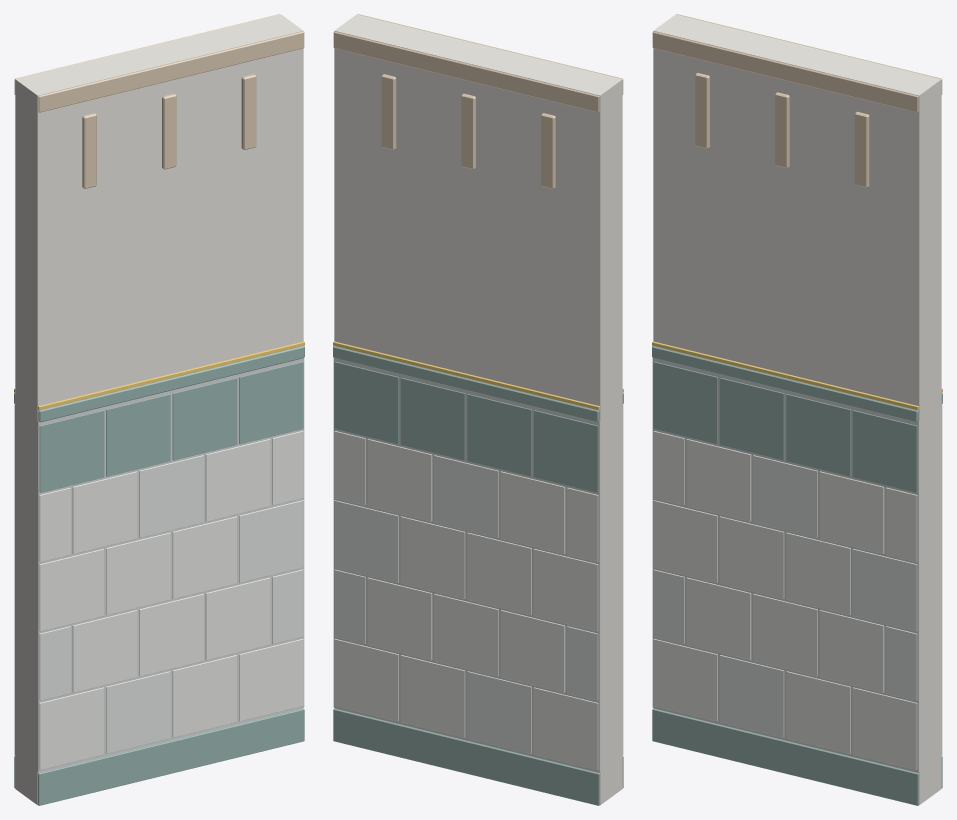
The model's file is Structure-CivicTiledWall.fbx.
3 views of the same model, side by side, from view 1: azimuth 30°, elevation 25°; view 2: azimuth 150°, elevation 25°; view 3: azimuth 330°, elevation 25° (orthographic).
Visible parts, largest first — view 1: Structure-CivicTiledWall Mesh; view 2: Structure-CivicTiledWall Mesh; view 3: Structure-CivicTiledWall Mesh.
Part boxes in pixels (bbox=[...]): Structure-CivicTiledWall Mesh: bbox=[14, 14, 304, 805]; Structure-CivicTiledWall Mesh: bbox=[333, 14, 623, 805]; Structure-CivicTiledWall Mesh: bbox=[652, 14, 942, 805].
Size of the model in its own units: 1 by 2.55 by 0.18.
